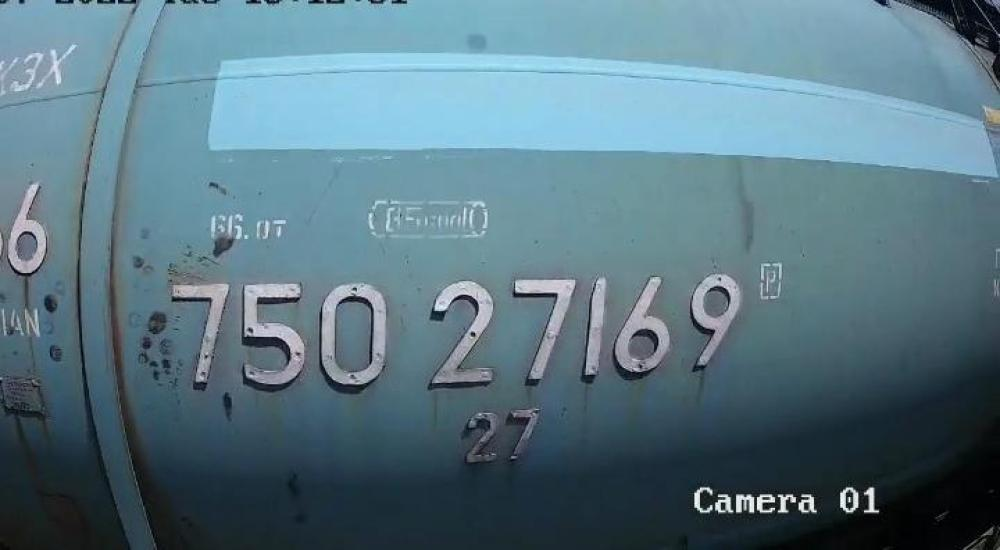Wagon-number: (170, 266, 746, 390)
